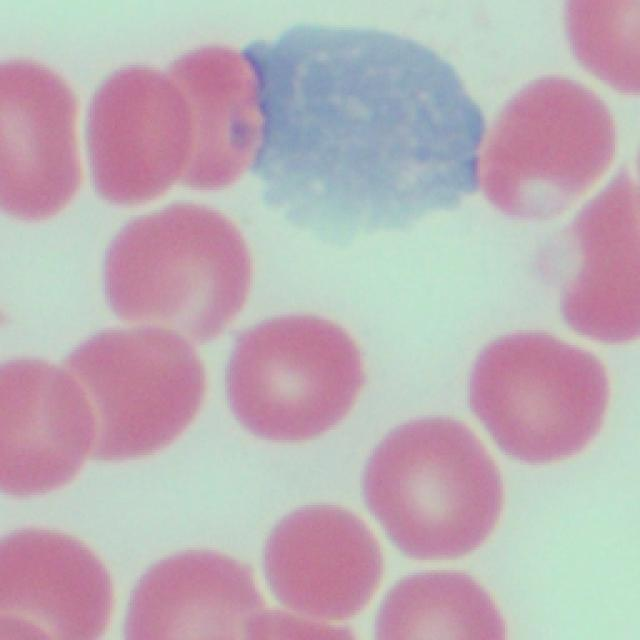RBC: (115, 191, 267, 378), (66, 303, 206, 471), (473, 64, 614, 229), (218, 302, 358, 453), (468, 324, 611, 467), (362, 408, 498, 556), (165, 29, 272, 205), (245, 496, 374, 640), (0, 35, 79, 235), (0, 322, 89, 497), (552, 173, 637, 350), (2, 510, 116, 638), (91, 62, 184, 208), (375, 563, 505, 640), (562, 0, 640, 93)
